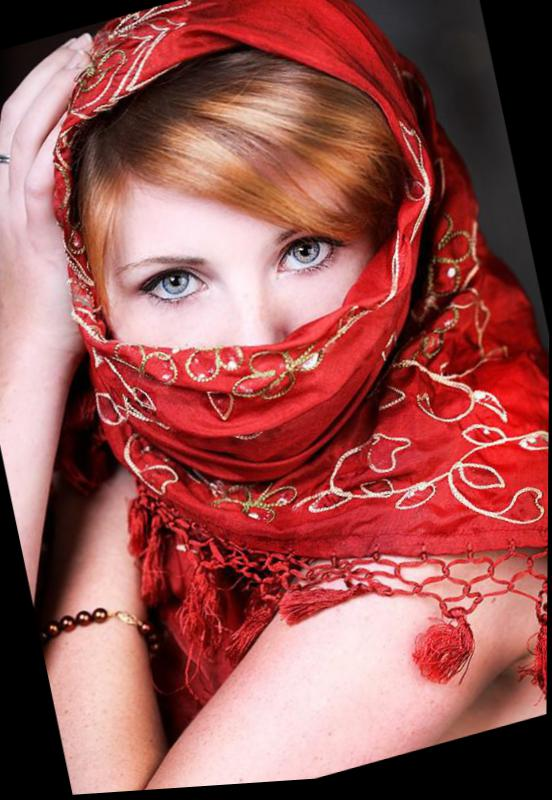WRONG: (88, 169, 421, 522)
